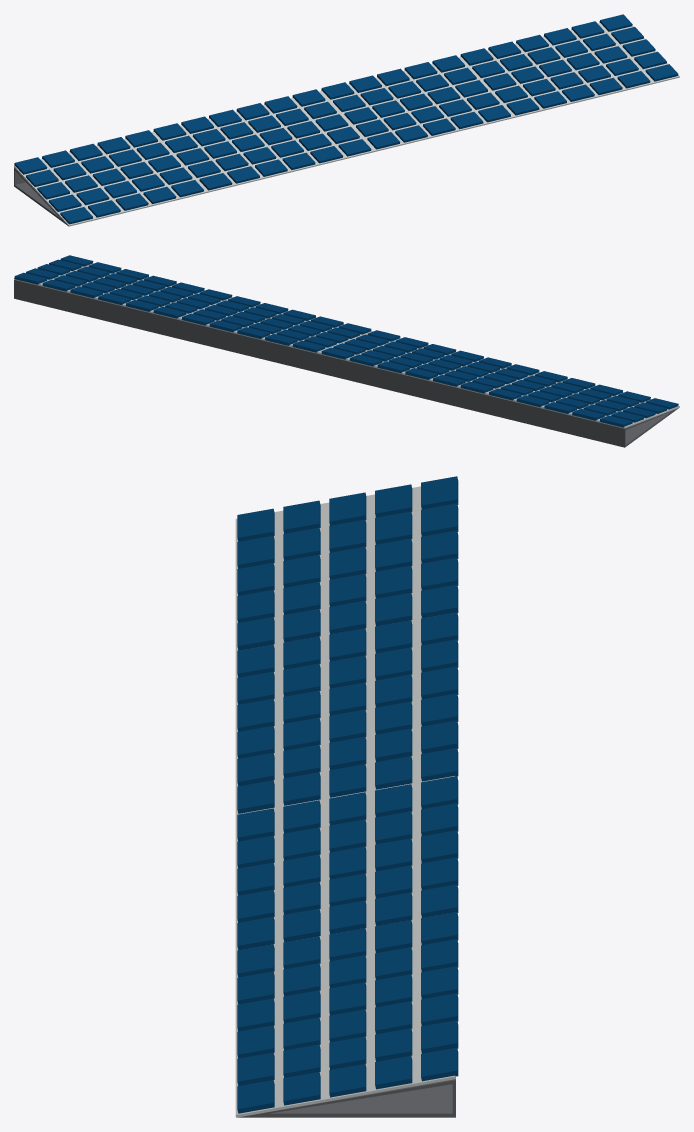
File: Solar Panel 5x22 small.glb
3 renders of one model, top to bottom at view 1: azimuth 30°, elevation 25°; view 2: azimuth 150°, elevation 25°; view 3: azimuth 270°, elevation 25°, orthographic. The views are drawn at different scales.
Visible parts, largest first — view 1: Mesh_Mesh_head_geo.001_lambert2SG.001; view 2: Mesh_Mesh_head_geo.001_lambert2SG.001; view 3: Mesh_Mesh_head_geo.001_lambert2SG.001.
Part boxes in pixels (left/top/right/bottom): Mesh_Mesh_head_geo.001_lambert2SG.001: left=14, top=14, right=679, bottom=226; Mesh_Mesh_head_geo.001_lambert2SG.001: left=14, top=255, right=679, bottom=447; Mesh_Mesh_head_geo.001_lambert2SG.001: left=235, top=476, right=458, bottom=1117.
Size of the model in its own units: 681 by 24.56 by 108.
